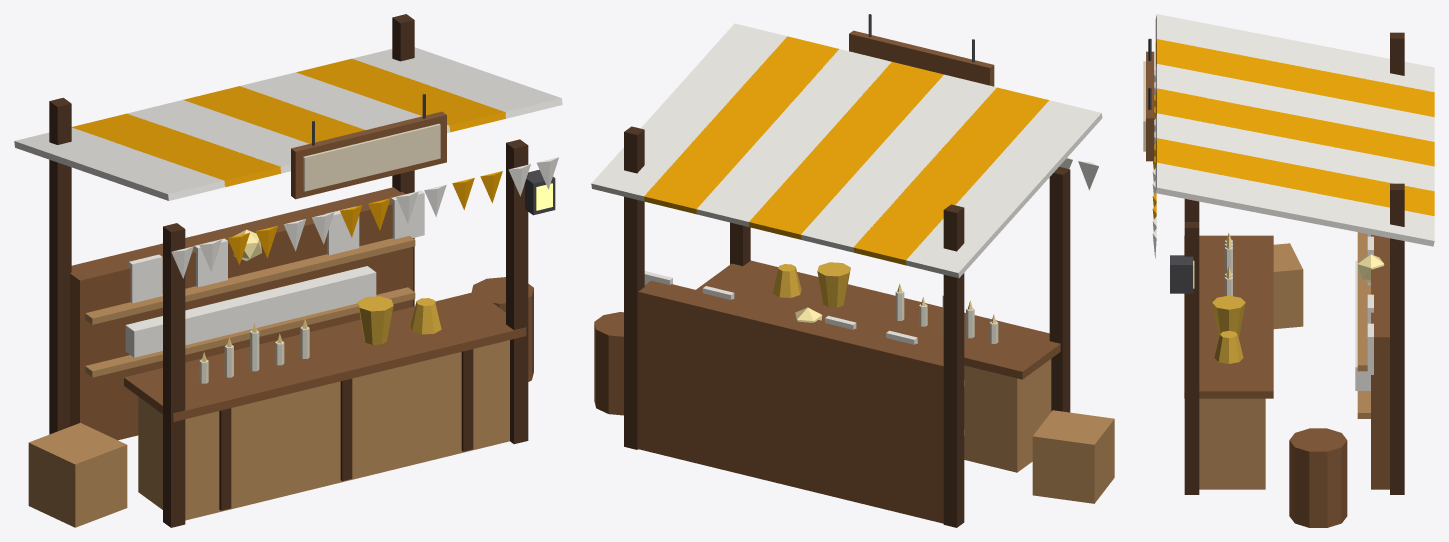
Rendered from Stand_Licht.fbx.
3 views of the same model, side by side, from view 1: azimuth 30°, elevation 25°; view 2: azimuth 150°, elevation 25°; view 3: azimuth 270°, elevation 25° (orthographic). The views are drawn at different scales.
Parts seen in each view (by area): view 1: Stand_Licht; view 2: Stand_Licht; view 3: Stand_Licht.
Boxes of the visible parts, x1,y1,x2,y2 form: Stand_Licht: (14,14,562,527); Stand_Licht: (591,14,1114,527); Stand_Licht: (1143,14,1434,527).
Bounding box in the file's own units: 5.12 × 3.7 × 2.77.
